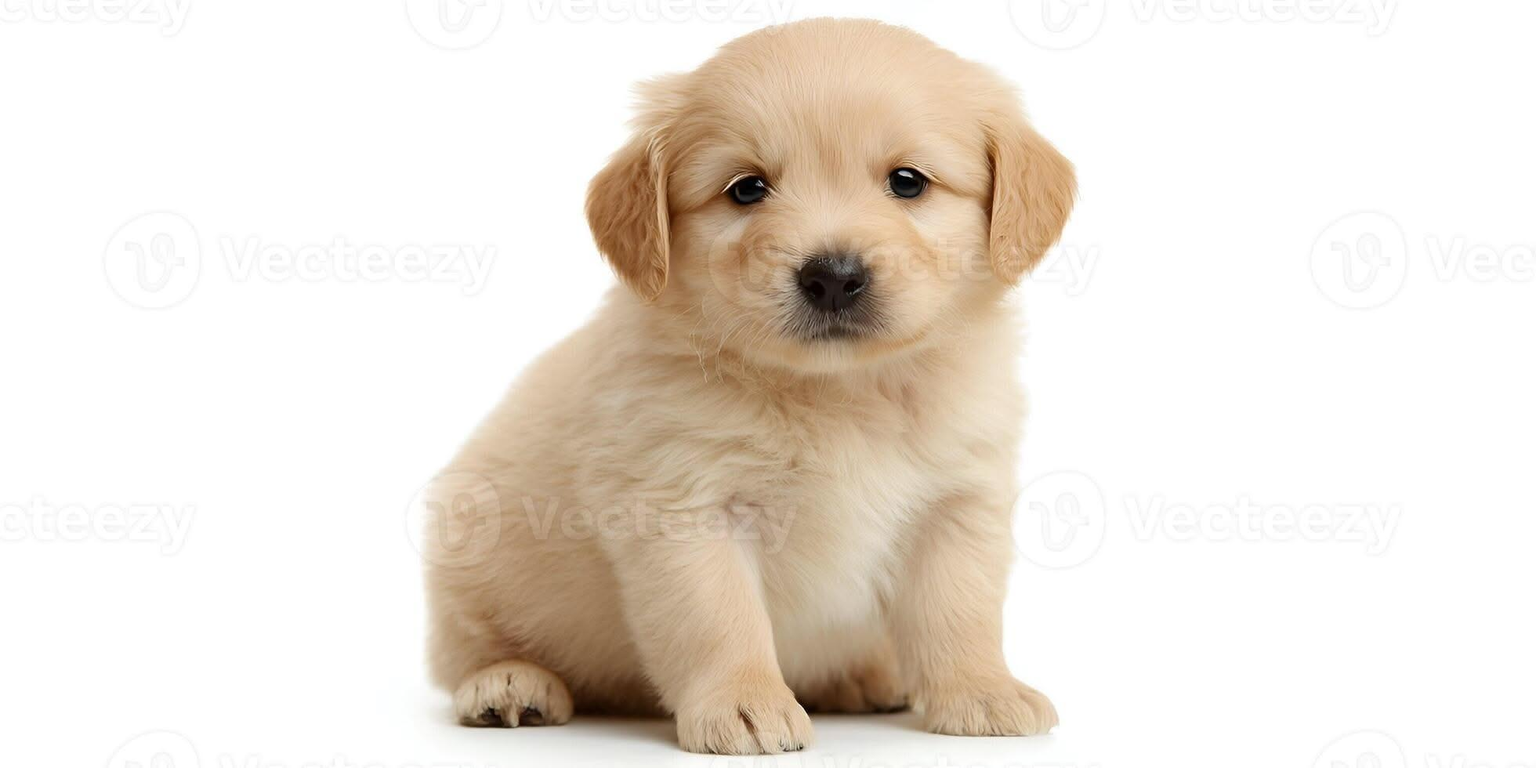puppy-dog: (418, 16, 1081, 756)
